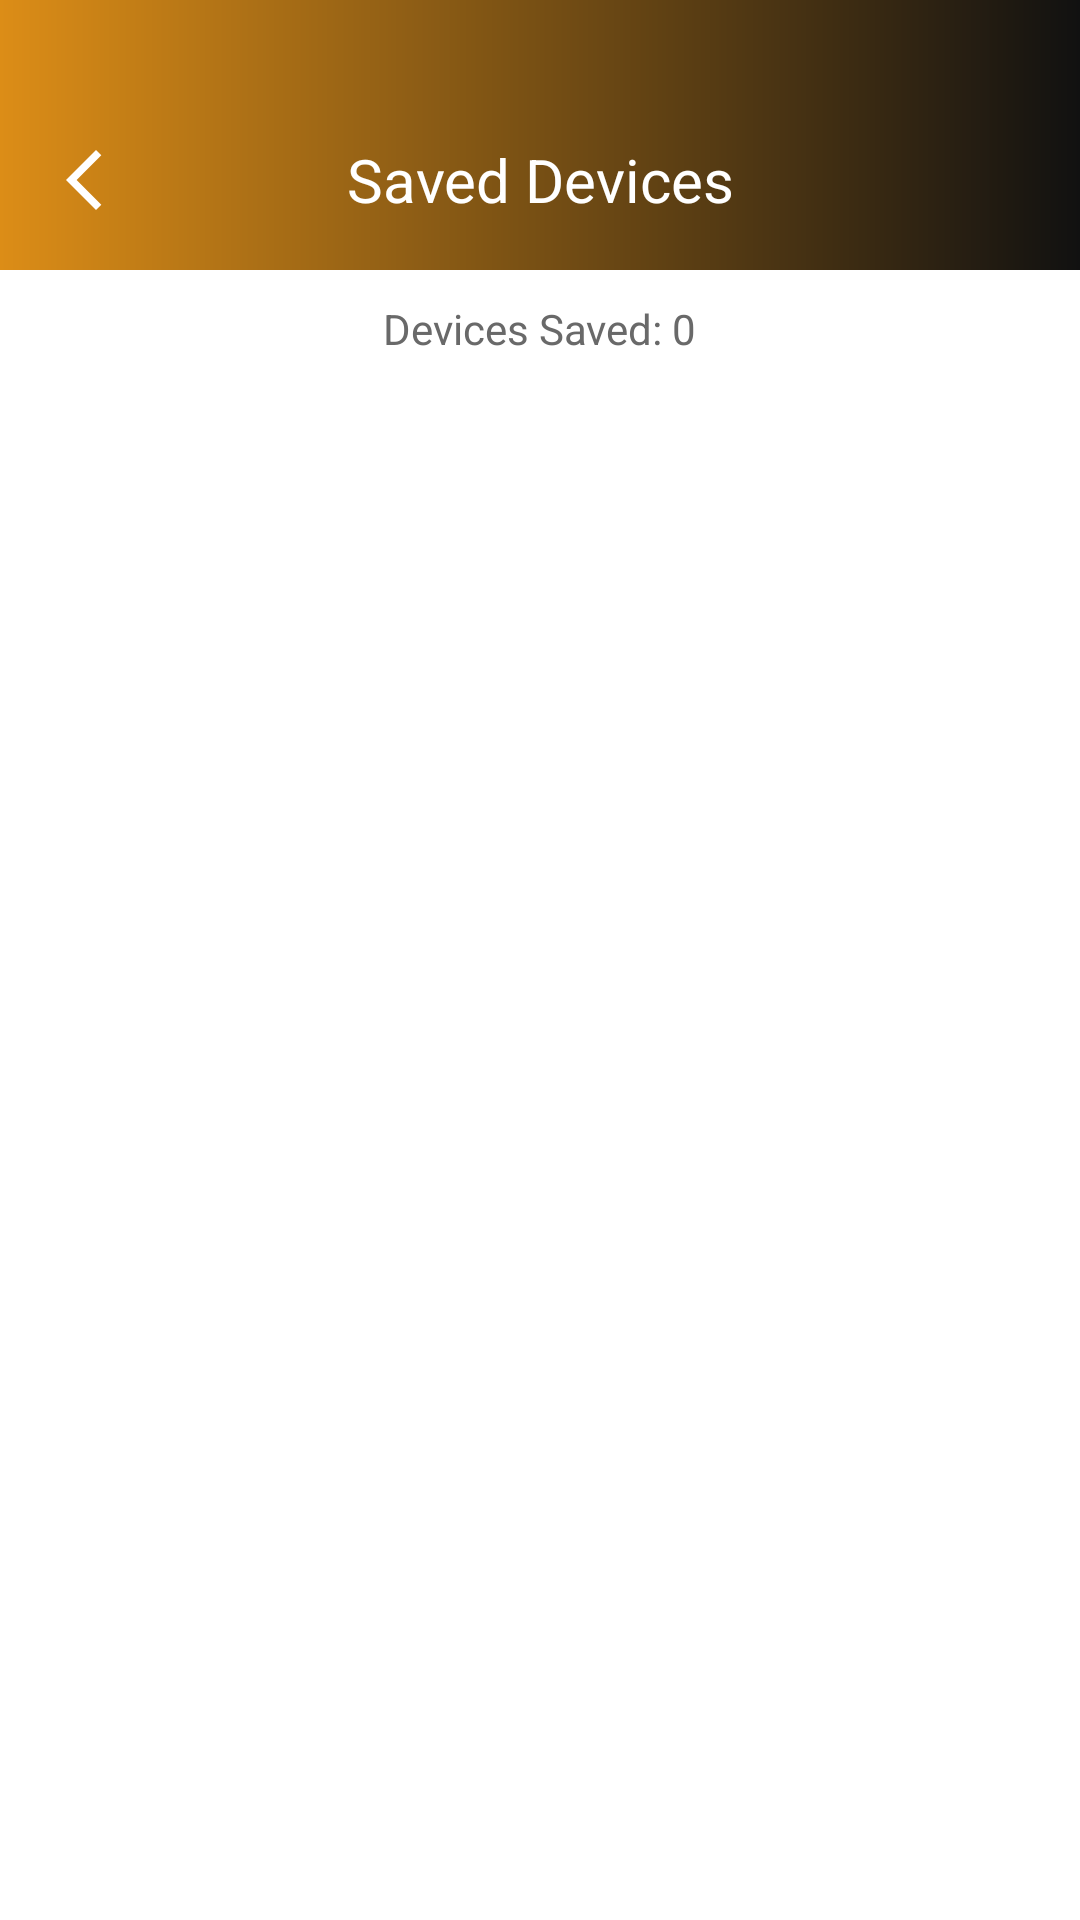

Where icons sit on this 1080px x 1920px app screen, as (x1, y1, x2, y2):
back: (66, 150, 101, 210)
